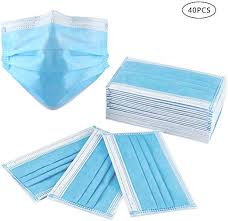mask: (3, 11, 108, 105)
